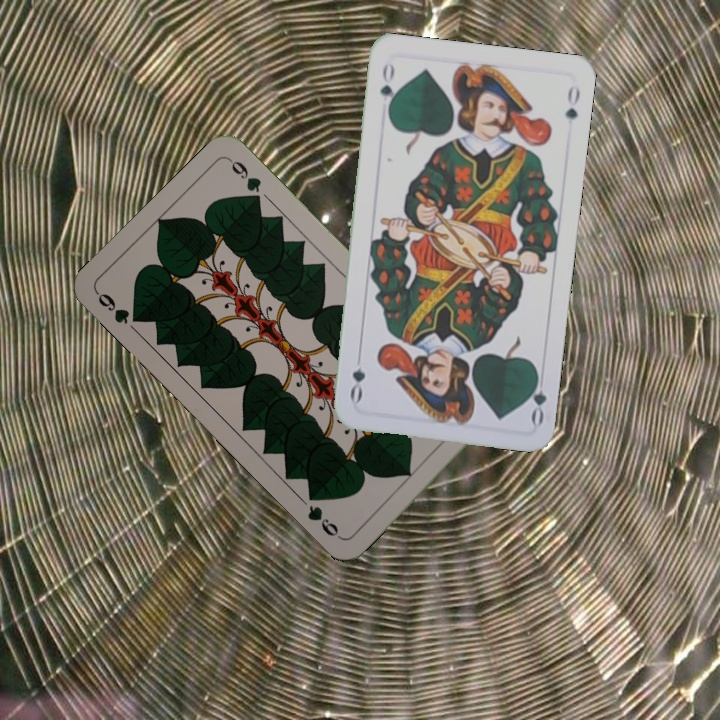G9: (92, 288, 146, 327)
GO: (522, 367, 549, 427), (375, 58, 399, 117)
